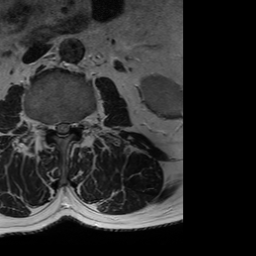CCS_stenosis: (60, 113, 66, 143)
LFS_stenosis: (73, 112, 81, 134)
LLS_stenosis: (66, 113, 73, 138)
RFS_stenosis: (45, 114, 53, 136)
RLS_stenosis: (53, 113, 60, 139)
